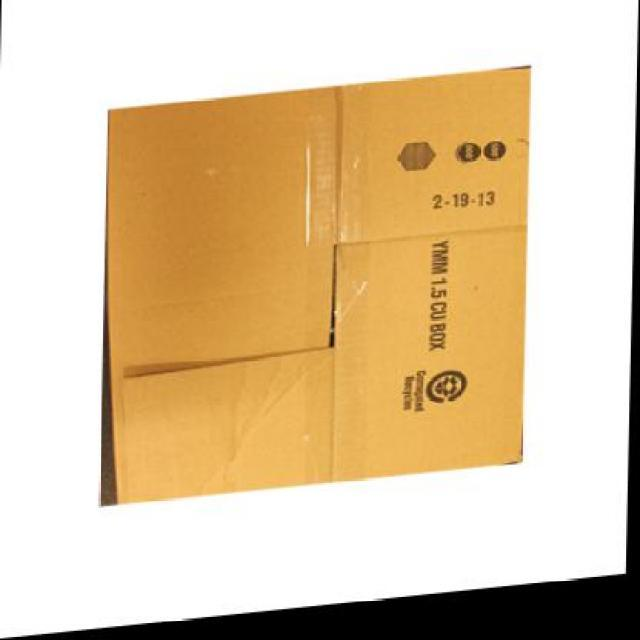box: (119, 77, 532, 504)
